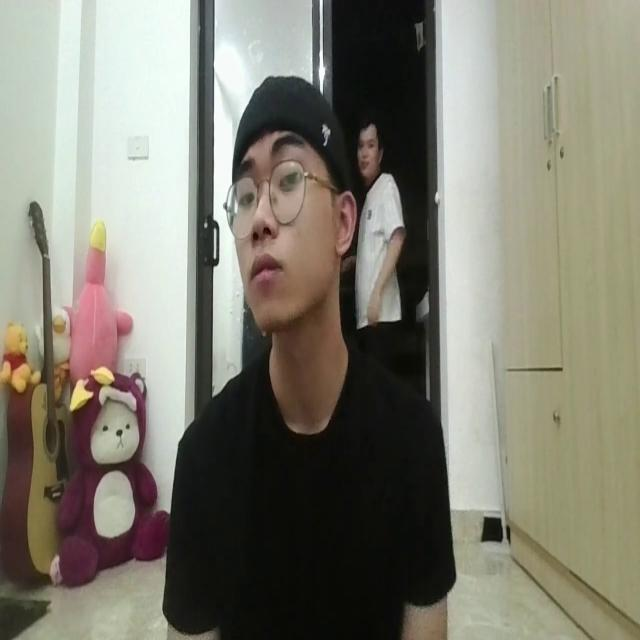extra_person: (356, 111, 406, 347)
student: (159, 71, 448, 640)
